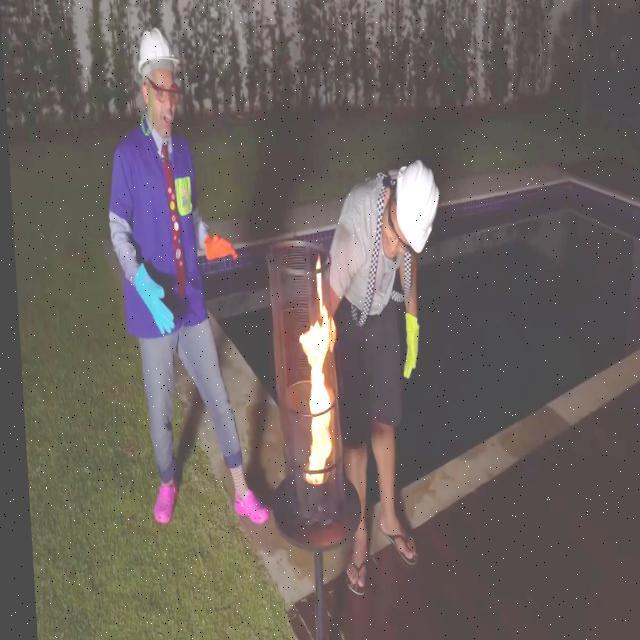Fire: (286, 270, 335, 478)
